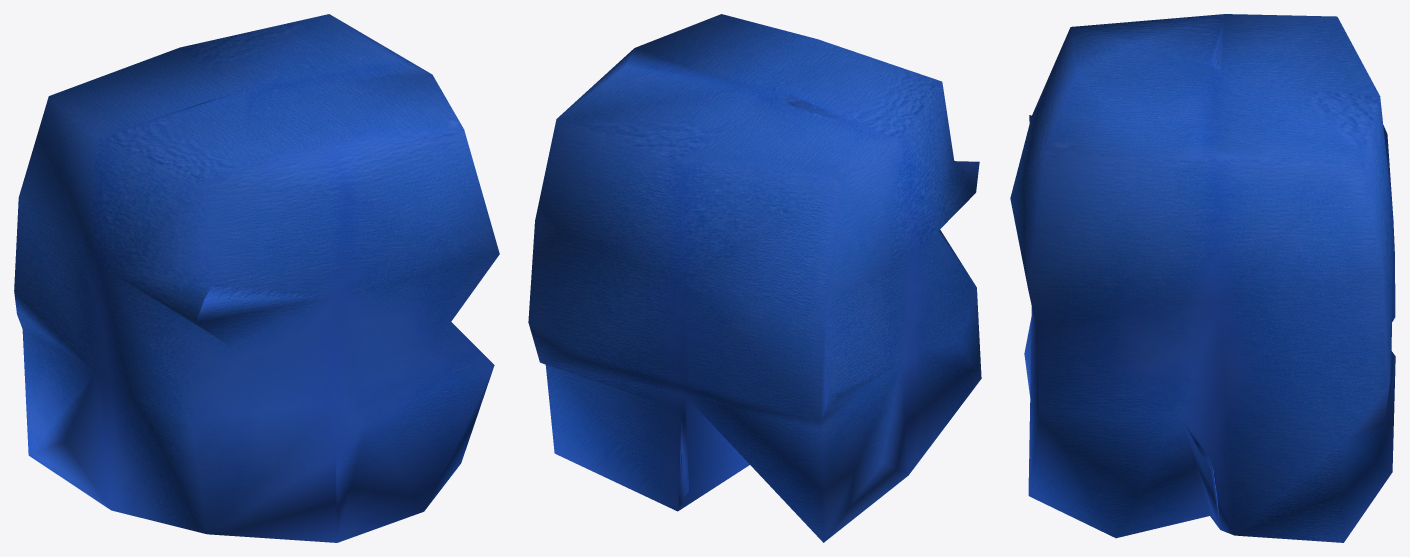
3 views of the same model, side by side, from view 1: azimuth 30°, elevation 25°; view 2: azimuth 150°, elevation 25°; view 3: azimuth 270°, elevation 25° (orthographic). The views are drawn at different scales.
Visible parts, largest first — view 1: tripo_node_92970859-98c5-4acf-8fbb-3cb9116fb0c0; view 2: tripo_node_92970859-98c5-4acf-8fbb-3cb9116fb0c0; view 3: tripo_node_92970859-98c5-4acf-8fbb-3cb9116fb0c0.
Part boxes in pixels (<box>): tripo_node_92970859-98c5-4acf-8fbb-3cb9116fb0c0: <box>14,14,499,542</box>; tripo_node_92970859-98c5-4acf-8fbb-3cb9116fb0c0: <box>528,14,981,542</box>; tripo_node_92970859-98c5-4acf-8fbb-3cb9116fb0c0: <box>1010,14,1395,542</box>.
Bounding box in the file's own units: 0.8919 × 1 × 0.8667.
Materials: 1 (1 with a texture image).
